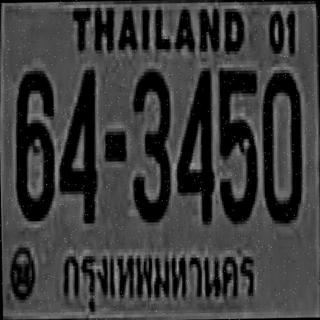N00: (261, 70, 301, 220)
N03: (130, 68, 171, 220)
N04: (56, 66, 97, 220), (175, 64, 212, 222)
N05: (217, 67, 258, 221)
N06: (13, 67, 54, 218)
P04: (53, 238, 260, 314)
